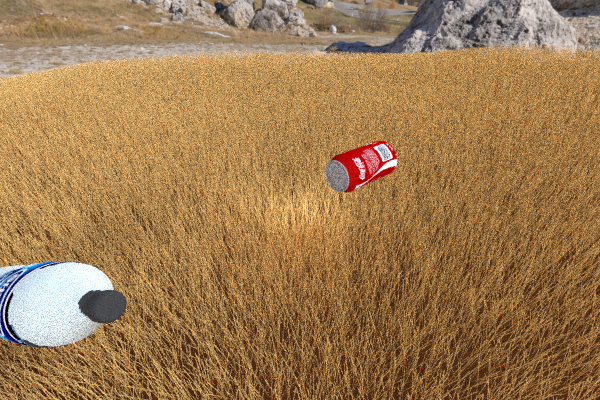Plastic Bottle: (0, 261, 126, 347), (324, 140, 397, 192), (189, 70, 229, 96)
